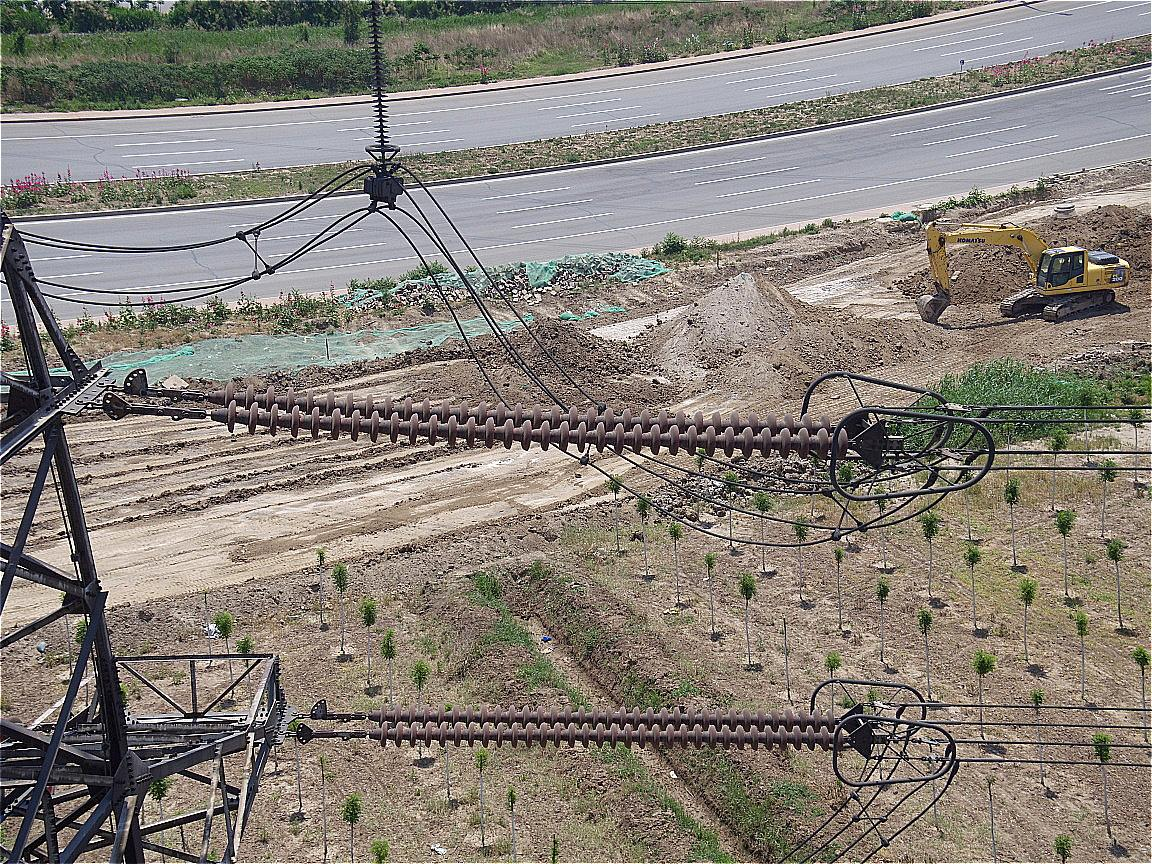insultor1: (222, 379, 852, 463), (378, 701, 844, 752)
